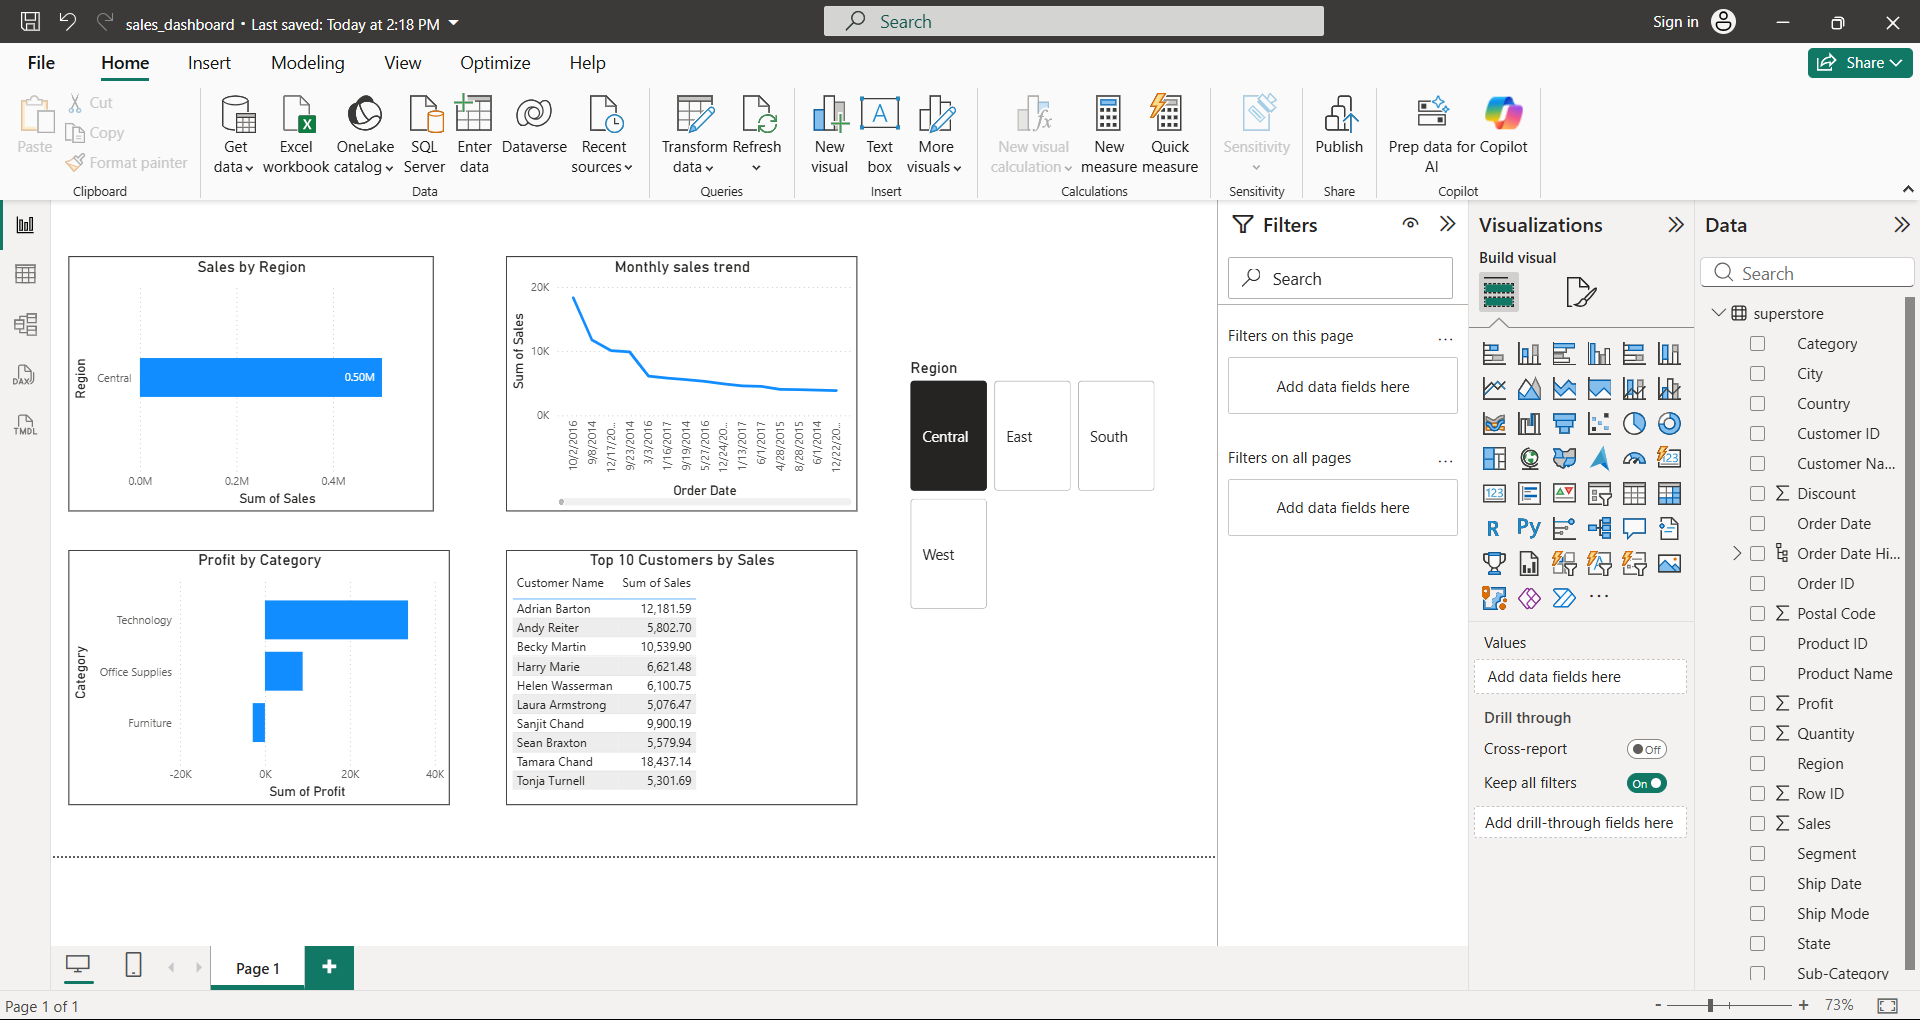

The dashboard page shown, as its layout file describes it:
{"tool":"powerbi","page":{"name":"Page 1","canvas":[1280,720],"ordinal":0},"visuals":[{"type":"clusteredBarChart","title":"Sales by Region","fields":{"Category":["superstore.Region"],"Y":["Sum(superstore.Sales)"]},"box":[19.2,61.7,400.7,279.9],"z":0},{"type":"clusteredBarChart","title":" Profit by Category","fields":{"Category":["superstore.Category"],"Y":["Sum(superstore.Profit)"]},"box":[19.2,384.2,418.5,279.9],"z":1},{"type":"lineChart","title":"Monthly sales trend","fields":{"Category":["superstore.Order Date Hierarchy.Order Date"],"Y":["Sum(superstore.Sales)"]},"box":[499.5,61.7,385.6,279.9],"z":2},{"type":"tableEx","title":"Top 10 Customers by Sales","fields":{"Values":["superstore.Customer Name","Sum(superstore.Sales)"]},"box":[499.5,384.2,385.6,279.9],"z":3},{"type":"advancedSlicerVisual","fields":{"Values":["superstore.Region"]},"box":[938.6,174.3,279.9,279.9],"z":4}]}

Visuals, with their boxes on the page's 1280x720 design canvas (x1, y1, x2, y2). These are canvas units, not pixel positions in the 1920x1020 screenshot, which may show the page scaled, cropped or inside an application window:
"Sales by Region" clusteredBarChart: (19,62,420,342)
" Profit by Category" clusteredBarChart: (19,384,438,664)
"Monthly sales trend" lineChart: (500,62,885,342)
"Top 10 Customers by Sales" tableEx: (500,384,885,664)
advancedSlicerVisual - superstore.Region: (939,174,1218,454)
